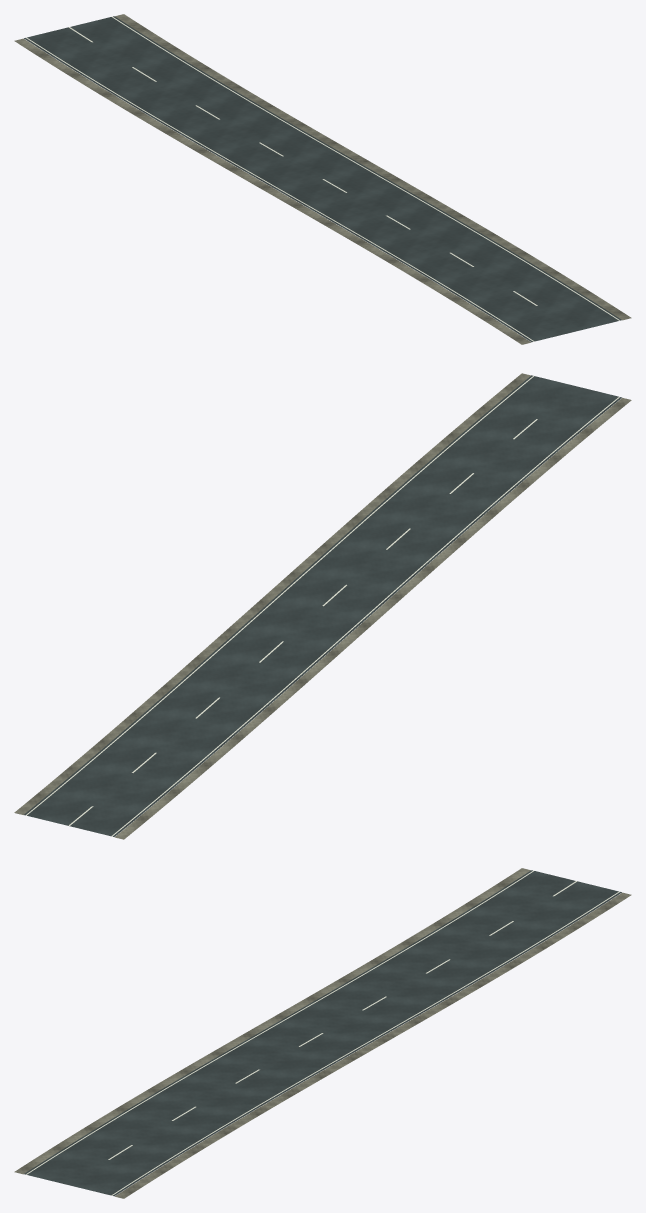
File: road_mountain_hill_64m.glb
3 views of the same model, one above another, from view 1: azimuth 30°, elevation 25°; view 2: azimuth 150°, elevation 25°; view 3: azimuth 330°, elevation 25° (orthographic).
Parts seen in each view (by area): view 1: road_surface, static_gravel, static_road_marking; view 2: road_surface, static_gravel, static_road_marking; view 3: road_surface, static_gravel, static_road_marking.
Boxes of the visible parts, x1=… form: road_surface: x1=24, y1=16, x2=621, y2=342; static_gravel: x1=14, y1=14, x2=631, y2=344; static_road_marking: x1=26, y1=16, x2=619, y2=341; road_surface: x1=24, y1=375, x2=621, y2=836; static_gravel: x1=14, y1=373, x2=631, y2=839; static_road_marking: x1=26, y1=375, x2=619, y2=836; road_surface: x1=24, y1=870, x2=621, y2=1196; static_gravel: x1=14, y1=868, x2=631, y2=1198; static_road_marking: x1=26, y1=870, x2=619, y2=1195.
Bounding box in the file's own units: 8 × 4.74 × 64.
Materials: 3 (2 with a texture image).
